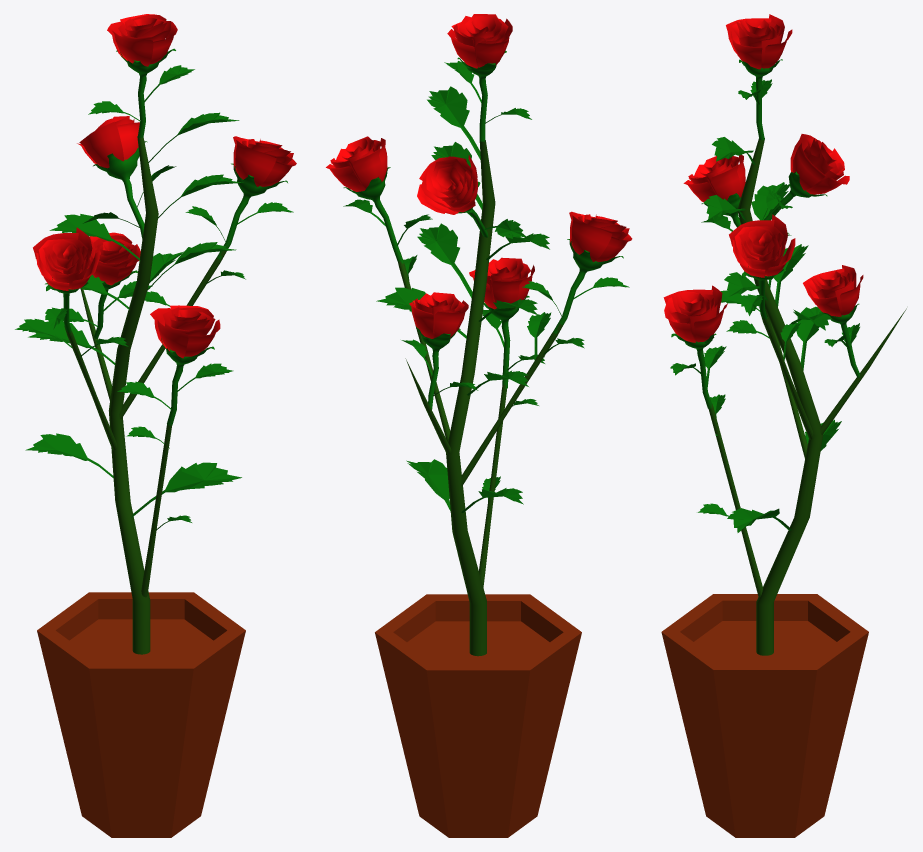
Rendered from rosetree5.fbx.
3 renders of one model, left to right at view 1: azimuth 30°, elevation 25°; view 2: azimuth 150°, elevation 25°; view 3: azimuth 270°, elevation 25°, orthographic.
Parts seen in each view (by area): view 1: Cylinder.001, Stem, rose4.001, Rose1.001, rose6, rose3, rose2.003, rose5.001; view 2: Cylinder.001, Stem, Rose1.001, rose3, rose2.003, rose6, rose5.001, rose4.001; view 3: Cylinder.001, Stem, rose3, rose4.001, Rose1.001, rose2.003, rose5.001, rose6.
Part boxes in pixels (x1,y1,x2,y2): Cylinder.001: [37, 592, 245, 837]; Stem: [15, 112, 245, 654]; rose4.001: [150, 305, 220, 425]; Rose1.001: [107, 14, 177, 137]; rose6: [33, 227, 99, 332]; rose3: [216, 136, 296, 259]; rose2.003: [77, 116, 147, 238]; rose5.001: [87, 232, 140, 338]; Cylinder.001: [375, 594, 581, 837]; Stem: [376, 86, 584, 656]; Rose1.001: [447, 14, 512, 141]; rose3: [326, 136, 403, 263]; rose2.003: [417, 155, 488, 237]; rose6: [553, 211, 632, 333]; rose5.001: [409, 292, 468, 409]; rose4.001: [469, 257, 534, 388]; Cylinder.001: [661, 594, 868, 837]; Stem: [697, 137, 906, 655]; rose3: [729, 214, 795, 319]; rose4.001: [663, 285, 727, 409]; Rose1.001: [726, 14, 792, 140]; rose2.003: [764, 134, 849, 220]; rose5.001: [803, 265, 863, 377]; rose6: [683, 154, 745, 227].
Bounding box in the file's own units: 669 × 1850 × 522.
